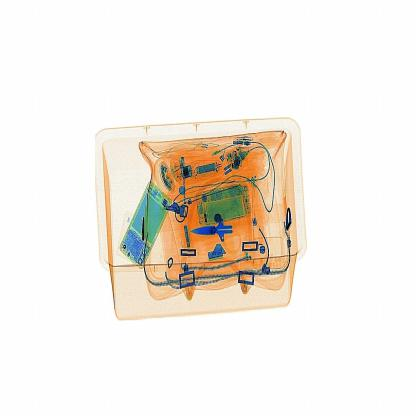gun: (179, 206, 244, 254)
